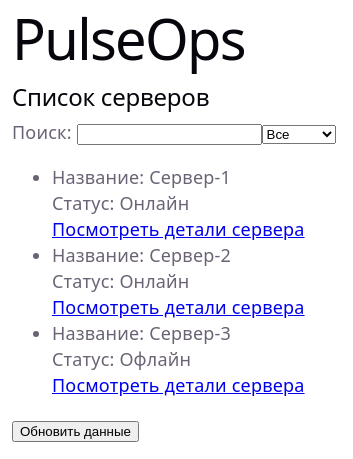
Test case: Проверка фильтрации по статусу
The image size is (353, 459).
Expected: the text "Название: Сервер-1" is shown, [52,164,231,188]
Expected: the text "Название: Сервер-3" is shown, [52,321,231,345]
Select "Офлайн" in the dropdown: (299, 135) [262,125,336,144]
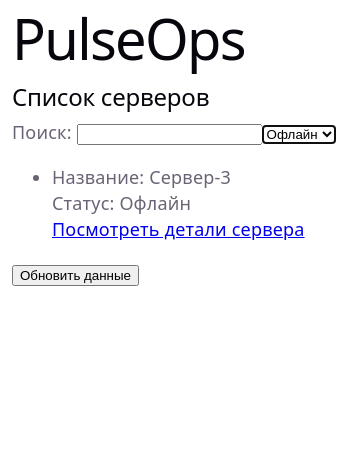
Expected: the text "Название: Сервер-3" is shown, [52,164,231,188]
Expected: the text "Название: Сервер-1" is gone
Expected: the text "Название: Сервер-2" is gone
